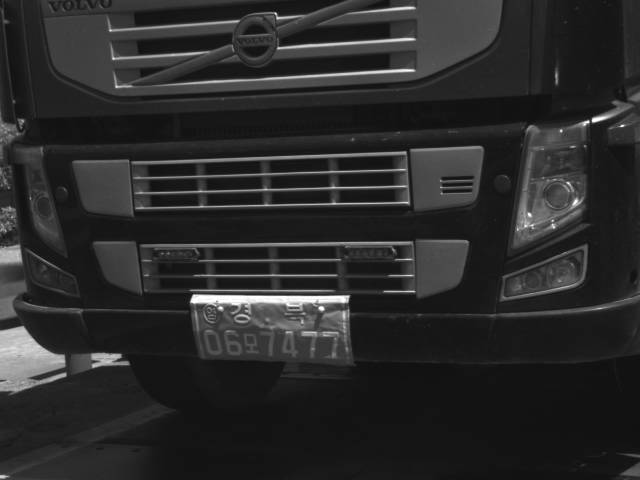car: (1, 1, 639, 416)
plate: (191, 293, 353, 366)
